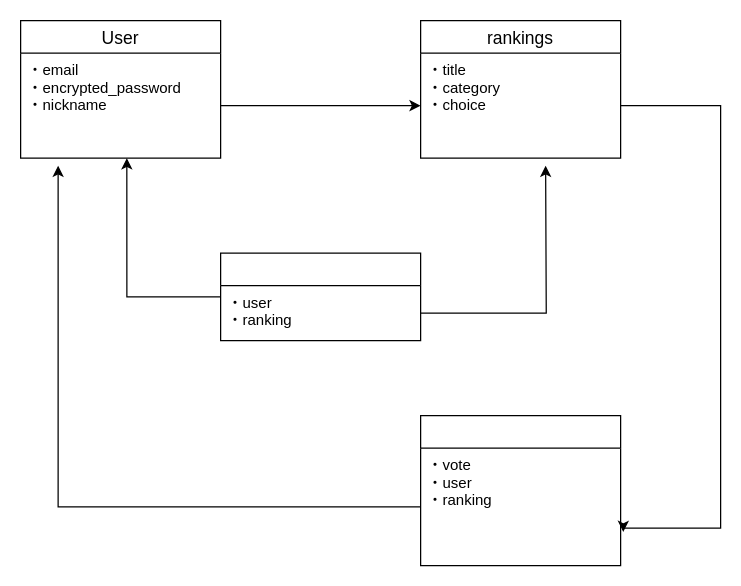
Image size: 741x586. Some labels were removed from this diagram. The box of each missing label's shape, as (x1, y1, x2, y2) in pixels:
rankings_users: (219, 252, 421, 341)
votes: (419, 414, 621, 566)
